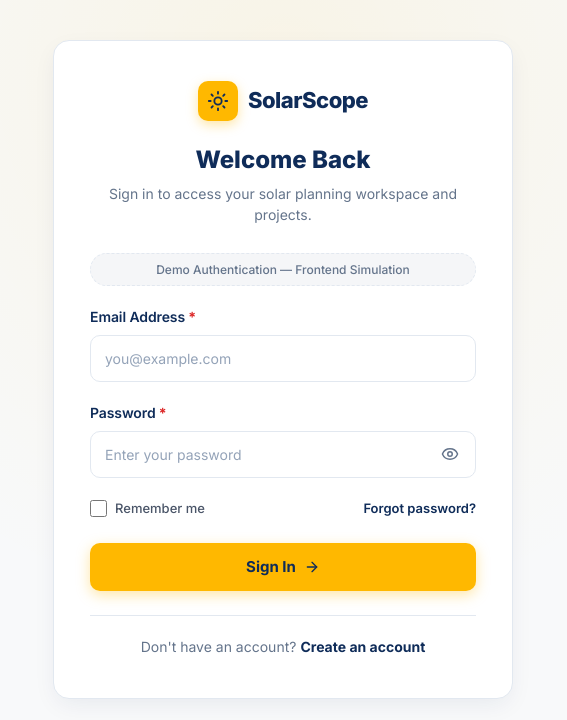
Test: LoginForm — UX, Validation & Accessibility › clears error message when user updates the input field
The width and height of the screenshot is (567, 720).
Note: Trigger validation
Submit the form from the button "Sign In", box [90,543,476,591]
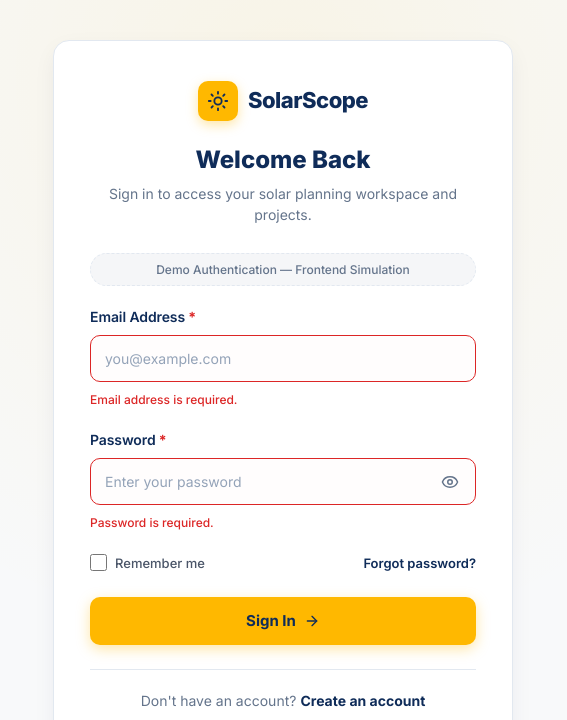
Result: the text "Email address is required." is shown at [90,392,238,407]
Note: Type into email input
In the field labelled "Email Address *": (283, 358) [90,335,476,382], type "user@example.com"
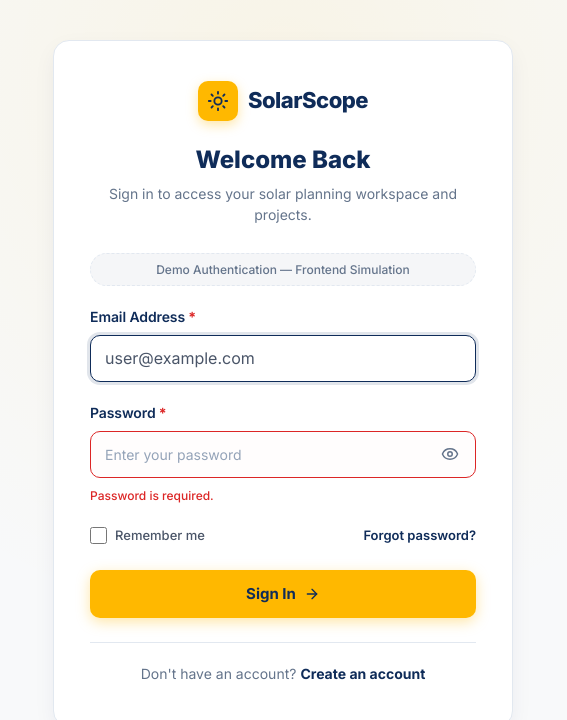
Result: the text "Email address is required" is gone
